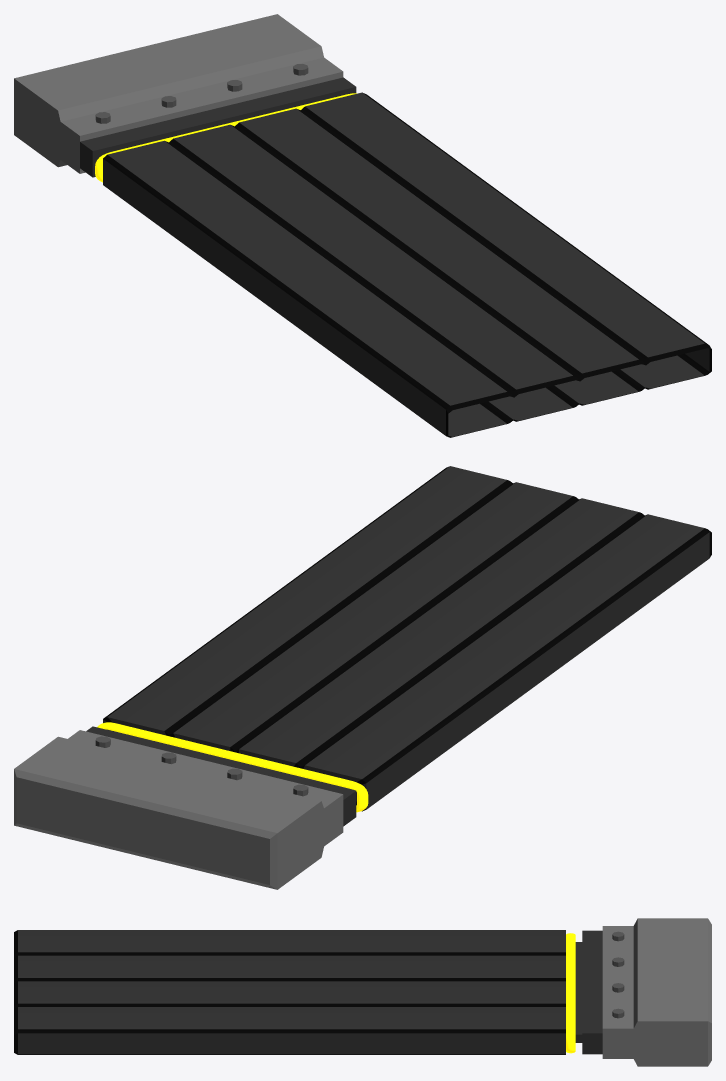
The model's file is PlatformSegmentEdge.fbx.
3 views of the same model, one above another, from view 1: azimuth 30°, elevation 25°; view 2: azimuth 150°, elevation 25°; view 3: azimuth 270°, elevation 25° (orthographic). The views are drawn at different scales.
Parts seen in each view (by area): view 1: HangerPlatformSegment, PlatformEmissive, Bolts; view 2: HangerPlatformSegment, PlatformEmissive, Bolts; view 3: HangerPlatformSegment, PlatformEmissive, Bolts.
Part boxes in pixels (bbox=[...]): HangerPlatformSegment: bbox=[14, 14, 711, 437]; PlatformEmissive: bbox=[95, 93, 356, 182]; Bolts: bbox=[95, 64, 308, 123]; HangerPlatformSegment: bbox=[14, 466, 711, 889]; PlatformEmissive: bbox=[97, 722, 368, 812]; Bolts: bbox=[95, 736, 308, 796]; HangerPlatformSegment: bbox=[14, 918, 711, 1066]; PlatformEmissive: bbox=[566, 933, 575, 1053]; Bolts: bbox=[612, 931, 624, 1018].
Size of the model in its own units: 3.23 by 0.6437 by 8.99.
